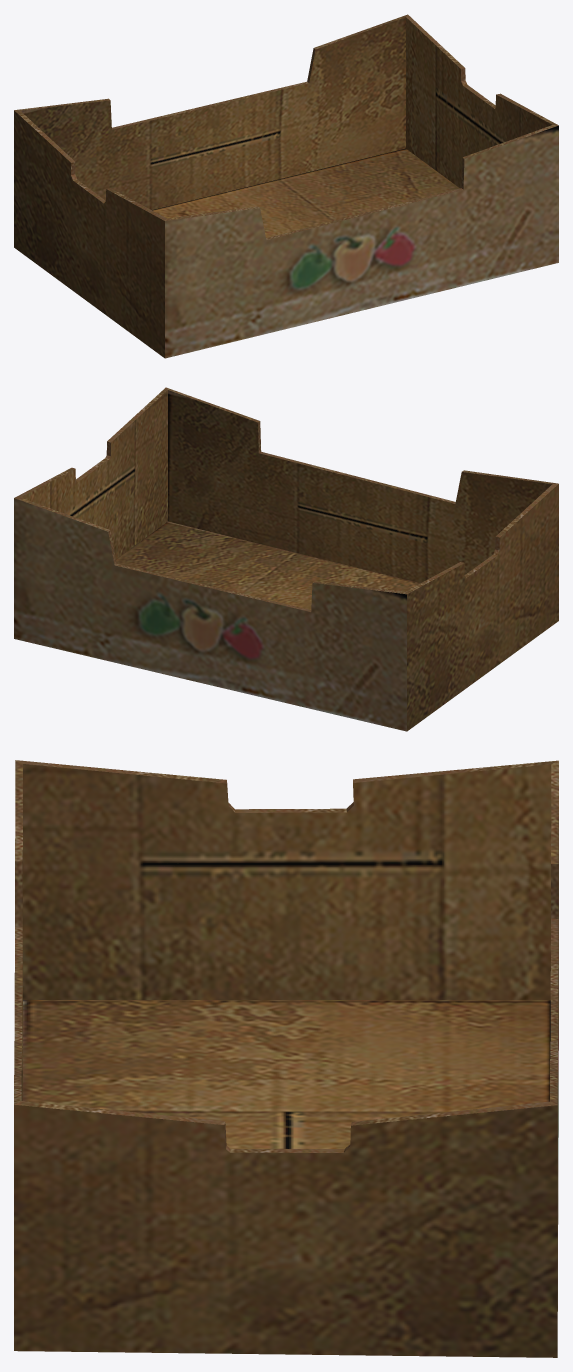
Rendered from Fruit box 3.FBX.
3 renders of one model, top to bottom at view 1: azimuth 30°, elevation 25°; view 2: azimuth 150°, elevation 25°; view 3: azimuth 270°, elevation 25°, orthographic. The views are drawn at different scales.
Parts seen in each view (by area): view 1: fruit box 3; view 2: fruit box 3; view 3: fruit box 3.
Part boxes in pixels (x1,y1,x2,y2): fruit box 3: [14, 14, 558, 358]; fruit box 3: [14, 387, 558, 731]; fruit box 3: [14, 760, 558, 1357].
Size of the model in its own units: 72.32 by 24.7 by 48.27.
Materials: 1 (1 with a texture image).
